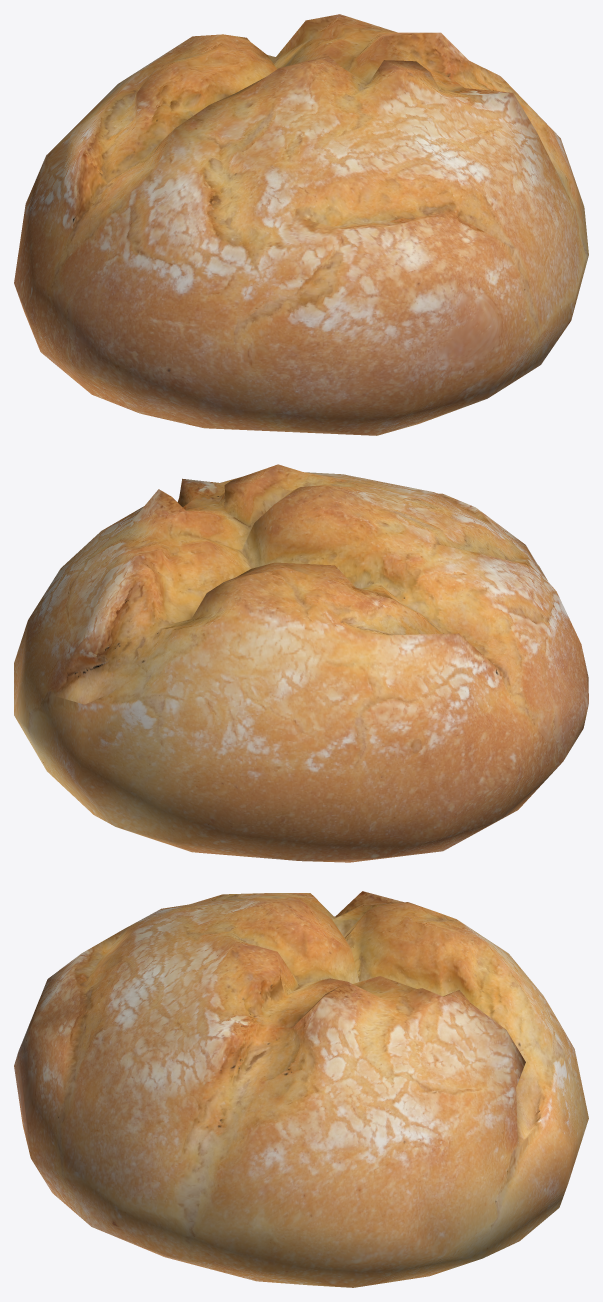
File: 3DBread006_LQ-2K-JPG.obj
The picture shows the model from 3 angles, top to bottom: view 1: azimuth 30°, elevation 25°; view 2: azimuth 150°, elevation 25°; view 3: azimuth 270°, elevation 25°; orthographic projection. The views are drawn at different scales.
Parts seen in each view (by area): view 1: 3DBread006_LQ-2K-JPG; view 2: 3DBread006_LQ-2K-JPG; view 3: 3DBread006_LQ-2K-JPG.
Part boxes in pixels (x1,y1,x2,y2): 3DBread006_LQ-2K-JPG: (14, 14, 588, 435); 3DBread006_LQ-2K-JPG: (14, 464, 588, 862); 3DBread006_LQ-2K-JPG: (14, 891, 588, 1287).
Bounding box in the file's own units: 0.1085 × 0.0605 × 0.1063.
Materials: 1 (1 with a texture image).
